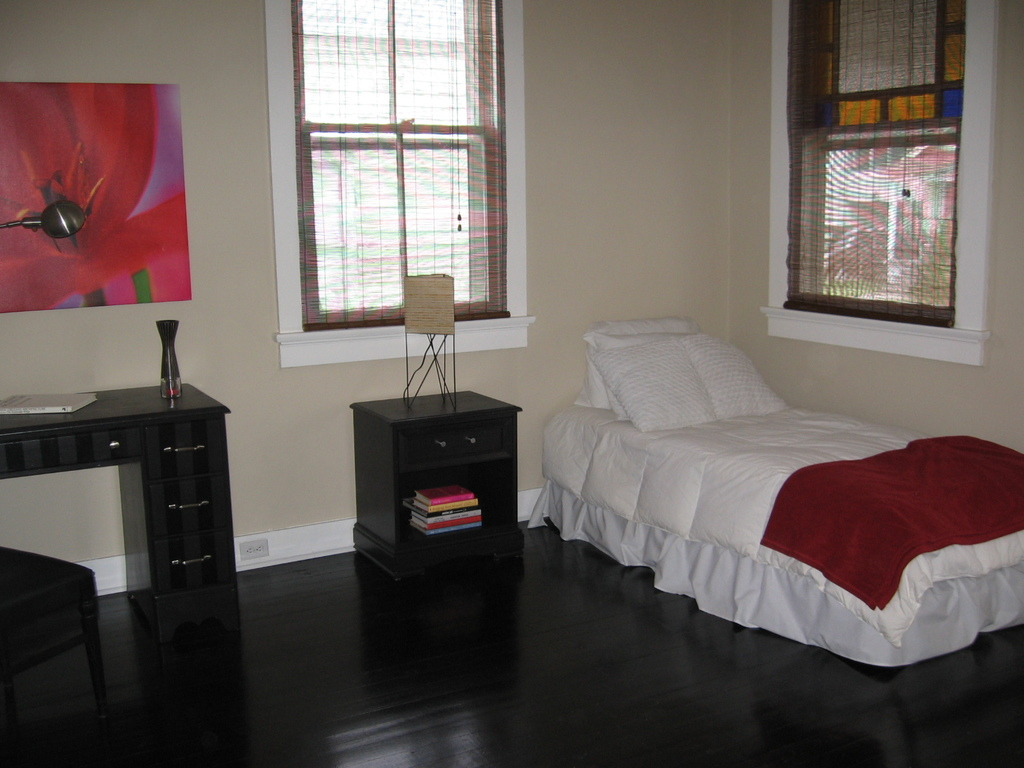cabinet door: (153, 466, 231, 528), (1, 426, 143, 460), (398, 418, 509, 460), (148, 528, 235, 574), (147, 421, 225, 460)
handle: (166, 496, 210, 519), (436, 434, 481, 455), (171, 550, 212, 572), (161, 439, 206, 458), (103, 431, 124, 452)
